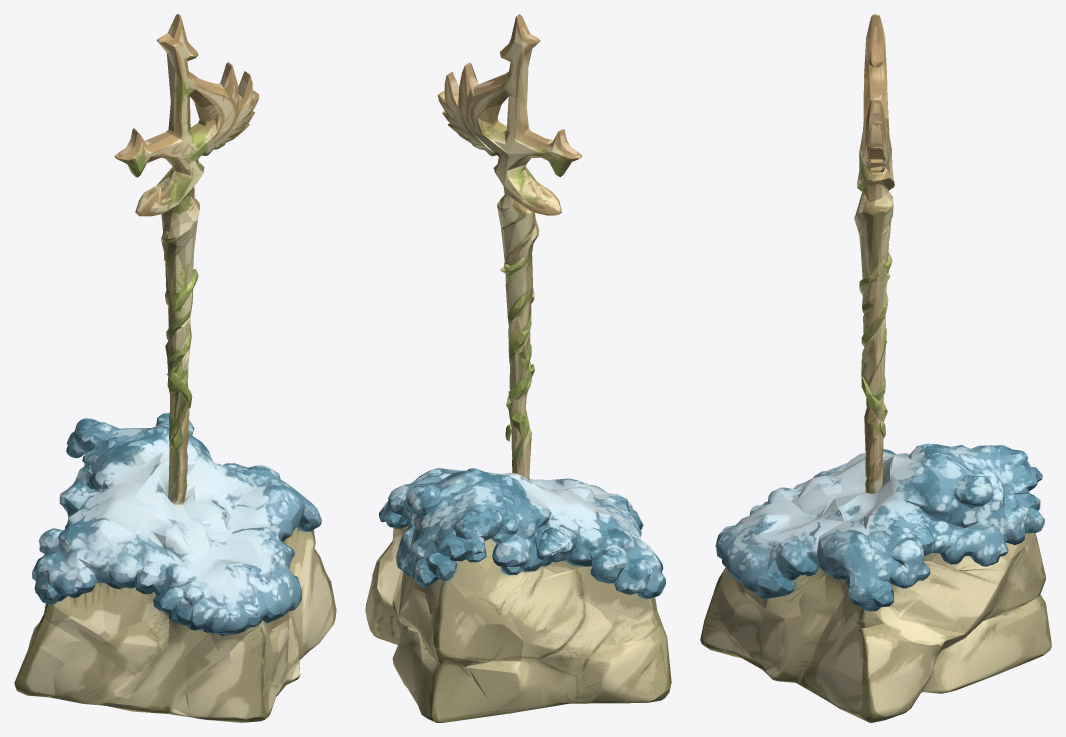
File: baston.glb
3 renders of one model, left to right at view 1: azimuth 30°, elevation 25°; view 2: azimuth 150°, elevation 25°; view 3: azimuth 270°, elevation 25°, orthographic.
Parts seen in each view (by area): view 1: output_unwrapped; view 2: output_unwrapped; view 3: output_unwrapped.
Part boxes in pixels (x1,y1,x2,y2): output_unwrapped: (14, 14, 336, 722); output_unwrapped: (365, 14, 671, 722); output_unwrapped: (700, 14, 1051, 722).
Bounding box in the file's own units: 0.9636 × 1.9 × 0.9494.
Materials: 1 (1 with a texture image).
